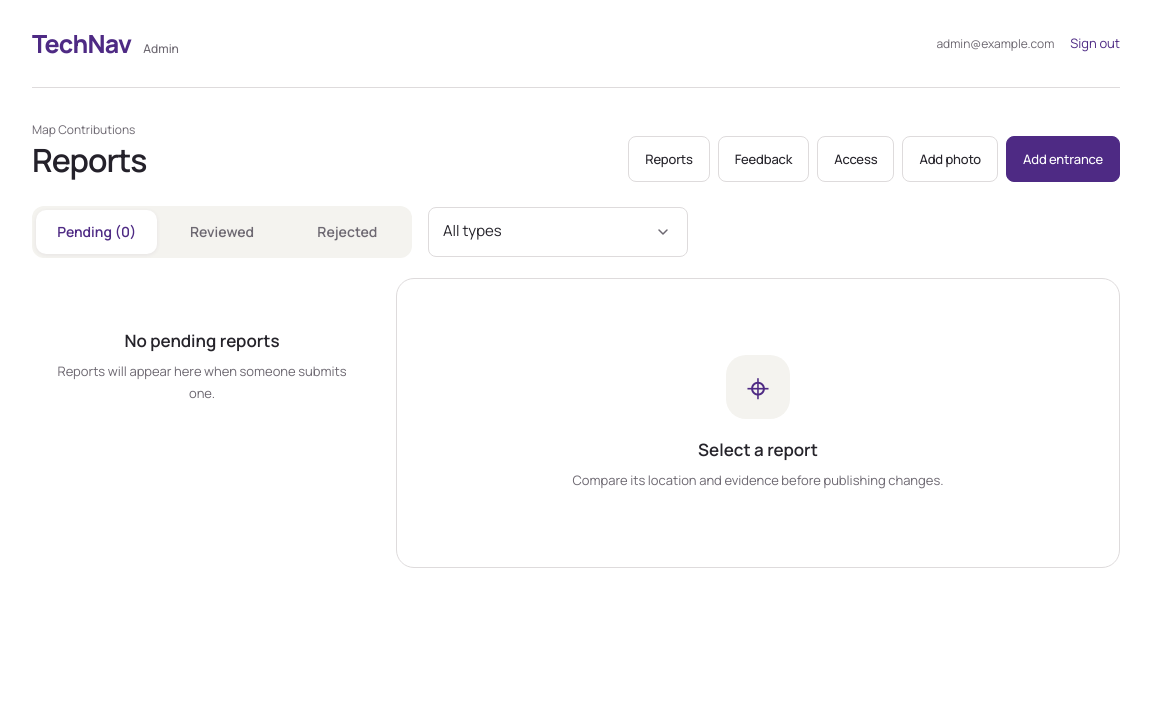
Test: administrator access and navigation › keeps private feedback separate from map approvals and can read earlier landing-page messages
Click the button "Feedback": (764, 159) [718, 136, 809, 182]
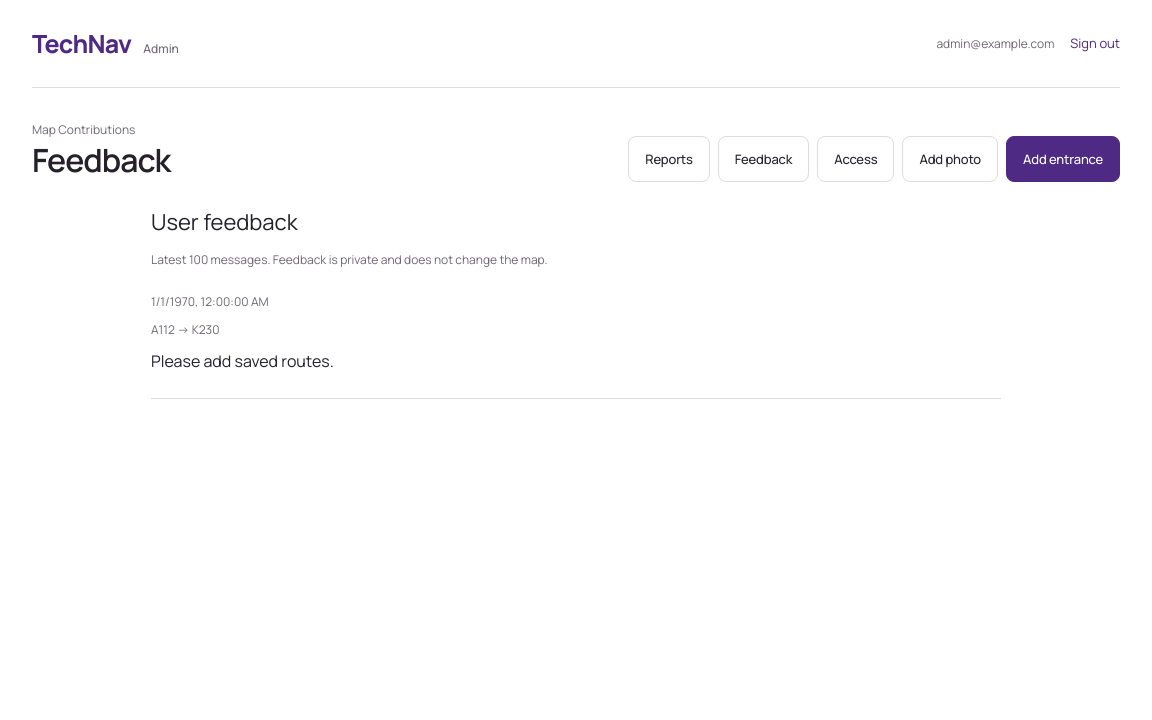
Expected: the text "Please add saved routes." is shown, [151, 350, 334, 372]
Expected: the text "A112 → K230" is shown, [151, 321, 220, 338]
